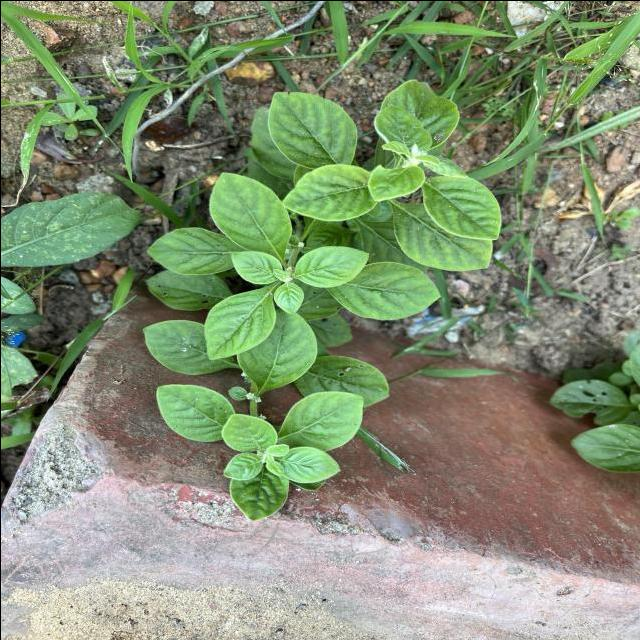Aerva lanata: (384, 196, 496, 272), (204, 170, 294, 262), (234, 305, 318, 395), (322, 259, 442, 321), (266, 88, 358, 168), (274, 388, 366, 452), (418, 173, 503, 241), (140, 317, 236, 377), (201, 286, 277, 360), (153, 382, 235, 443), (226, 463, 292, 522), (290, 244, 370, 288), (273, 444, 343, 484), (218, 411, 278, 453), (228, 248, 284, 286), (220, 450, 263, 480), (272, 280, 306, 315)
